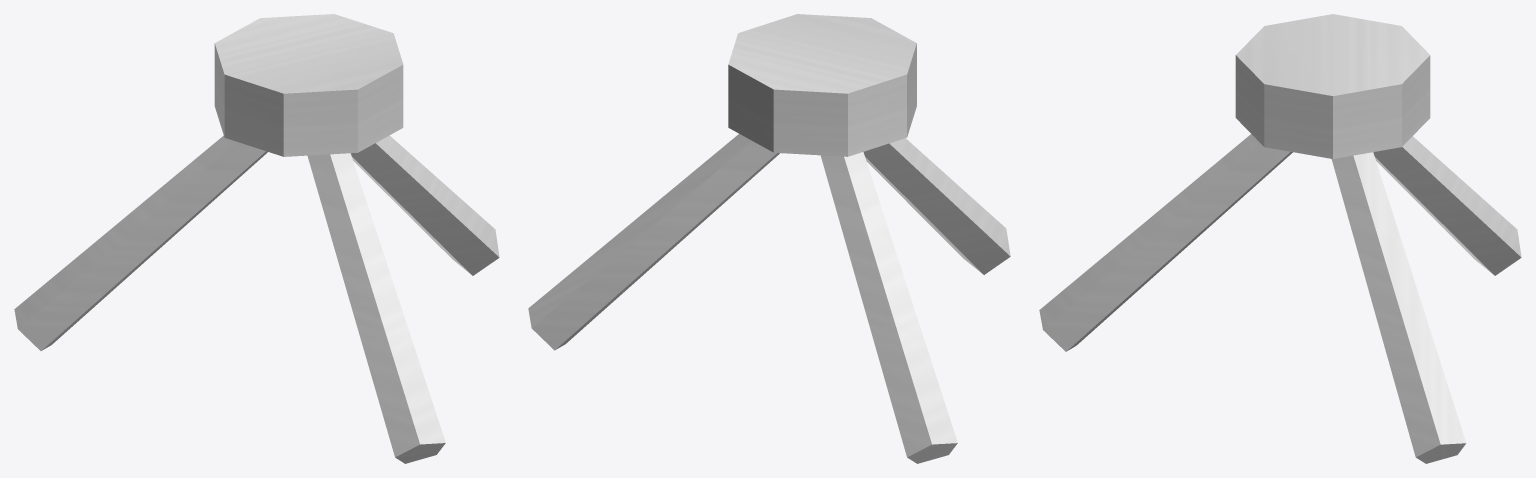
Rendered from turret_mini.obj.
3 renders of one model, left to right at view 1: azimuth 30°, elevation 25°; view 2: azimuth 150°, elevation 25°; view 3: azimuth 270°, elevation 25°, orthographic.
Visible parts, largest first — view 1: turret_mini; view 2: turret_mini; view 3: turret_mini.
Boxes of the visible parts, x1,y1,x2,y2 form: turret_mini: [14, 14, 499, 463]; turret_mini: [528, 14, 1010, 463]; turret_mini: [1039, 14, 1521, 463].
Bounding box in the file's own units: 0.7511 × 0.4869 × 0.6942.
